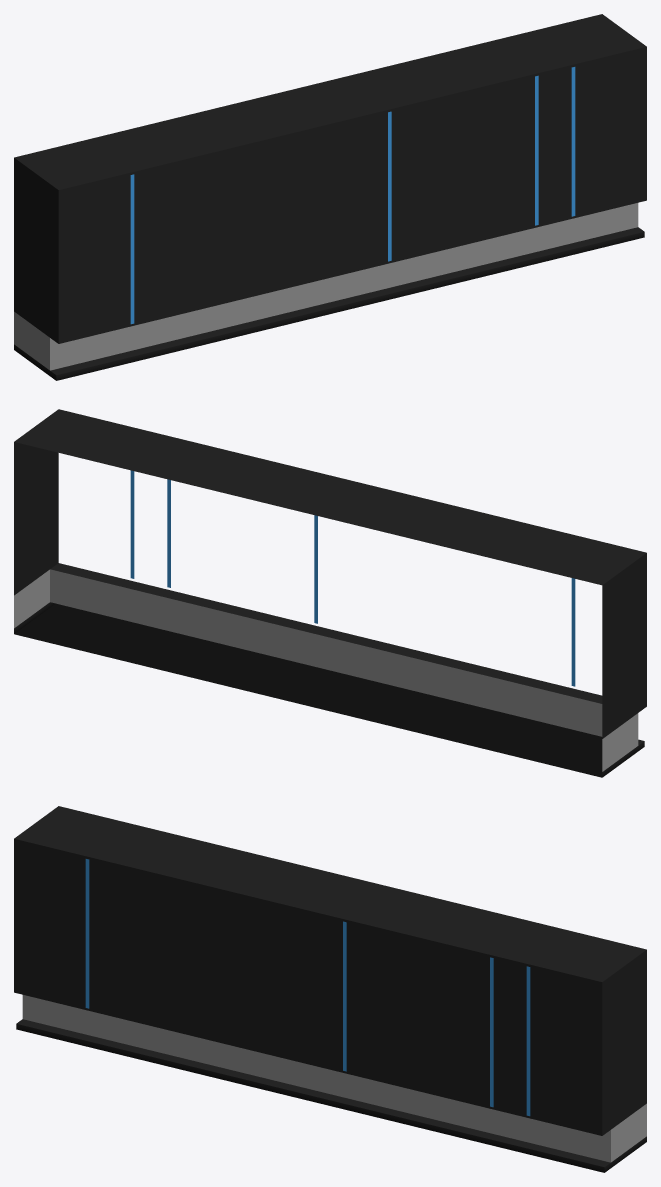
Rendered from Wall_16x5x2_002_L3.fbx.
3 renders of one model, top to bottom at view 1: azimuth 30°, elevation 25°; view 2: azimuth 150°, elevation 25°; view 3: azimuth 330°, elevation 25°, orthographic.
Visible parts, largest first — view 1: Wall_16x5x2_002_L3; view 2: Wall_16x5x2_002_L3; view 3: Wall_16x5x2_002_L3.
Part boxes in pixels (x1,y1,x2,y2): Wall_16x5x2_002_L3: (14, 14, 646, 380); Wall_16x5x2_002_L3: (14, 409, 646, 777); Wall_16x5x2_002_L3: (14, 806, 646, 1172).
Bounding box in the file's own units: 16 × 5 × 2.11.
